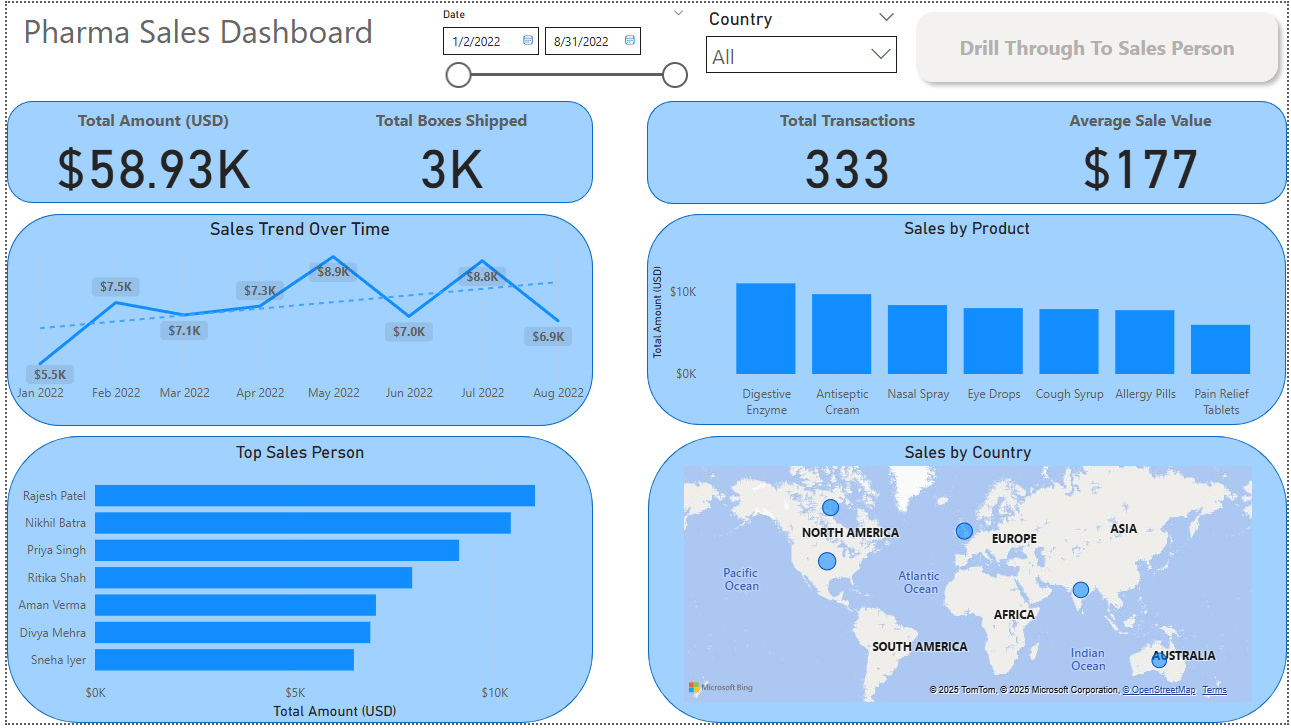

The page's visual inventory and layout, read from the dashboard file:
{"tool":"powerbi","page":{"name":"Dashboard","canvas":[1280,720],"ordinal":0},"visuals":[{"type":"shape","box":[640.1,97.5,640.1,103.2],"z":0,"group":"g1"},{"type":"group","id":"g1","title":"Background","box":[0,97.5,1280.2,622.5],"z":500},{"type":"textbox","box":[10.8,0,412.2,72.3],"z":1000},{"type":"shape","box":[0,97.5,586.2,102.3],"z":1000,"group":"g1"},{"type":"slicer","fields":{"Values":["sales_export_20251021_234047.sale_date"]},"box":[422.8,0,266.6,88.9],"z":2000},{"type":"shape","box":[0,210.9,586.2,211.9],"z":2000,"group":"g1"},{"type":"actionButton","box":[900.4,0,379.8,88],"z":3000},{"type":"shape","box":[0,432.7,586.2,287.3],"z":3000,"group":"g1"},{"type":"slicer","fields":{"Values":["sales_export_20251021_234047.country"]},"box":[689.5,0,211,88.9],"z":4000},{"type":"shape","box":[640.1,210.9,639.2,211],"z":4000,"group":"g1"},{"type":"cardVisual","fields":{"Data":["Sum(kpi_summary_20251021_234047.total_revenue)"]},"box":[0,88.9,292.7,113.1],"z":5000},{"type":"shape","box":[641,432.7,639.2,287.3],"z":5000,"group":"g1"},{"type":"cardVisual","fields":{"Data":["Sum(sales_export_20251021_234047.boxes_shipped)"]},"box":[303.4,88.9,282.8,107.7],"z":6000},{"type":"cardVisual","fields":{"Data":["deal_size_20251021_234047.Total Transactions"]},"box":[693.8,88.7,293.1,112.9],"z":7000},{"type":"cardVisual","fields":{"Data":["Avg(sales_export_20251021_234047.amount_usd)"]},"box":[986.9,88.7,293.1,112.9],"z":8000},{"type":"lineChart","title":"Sales Trend Over Time","fields":{"Y":["Sum(sales_export_20251021_234047.amount_usd)"],"Category":["sales_export_20251021_234047.sale_date.Variation.Date Hierarchy.Year","sales_export_20251021_234047.sale_date.Variation.Date Hierarchy.Quarter","sales_export_20251021_234047.sale_date.Variation.Date Hierarchy.Month"]},"box":[4.5,214.6,577.3,193.9],"z":9000},{"type":"barChart","title":"Top Sales Person","fields":{"Y":["Sum(sales_export_20251021_234047.amount_usd)"],"Category":["sales_export_20251021_234047.sales_person"]},"box":[0,439,586.2,281.9],"z":10000},{"type":"columnChart","title":"Sales by Product","fields":{"Y":["Sum(sales_export_20251021_234047.amount_usd)"],"Category":["sales_export_20251021_234047.product"]},"box":[640.1,214.6,640.1,207.4],"z":11000},{"type":"map","title":"Sales by Country","fields":{"Category":["sales_export_20251021_234047.country"],"Size":["Sum(sales_export_20251021_234047.amount_usd)"]},"box":[671.5,408.5,578.2,289.1],"z":12000}]}

Visuals, with their boxes in screenshot pixels (x1, y1, x2, y2), scaled from the page's 1280x720 canvas onto the 1291x728 screenshot:
shape: detection(646, 99, 1290, 203)
"Background" group: detection(0, 99, 1290, 727)
textbox: detection(11, 0, 427, 73)
shape: detection(0, 99, 591, 202)
slicer - sales_export_20251021_234047.sale_date: detection(426, 0, 695, 90)
shape: detection(0, 213, 591, 427)
actionButton: detection(908, 0, 1290, 89)
shape: detection(0, 438, 591, 727)
slicer - sales_export_20251021_234047.country: detection(695, 0, 908, 90)
shape: detection(646, 213, 1290, 427)
cardVisual - Sum(kpi_summary_20251021_234047.total_revenue): detection(0, 90, 295, 204)
shape: detection(647, 438, 1290, 727)
cardVisual - Sum(sales_export_20251021_234047.boxes_shipped): detection(306, 90, 591, 199)
cardVisual - deal_size_20251021_234047.Total Transactions: detection(700, 90, 995, 204)
cardVisual - Avg(sales_export_20251021_234047.amount_usd): detection(995, 90, 1290, 204)
"Sales Trend Over Time" lineChart: detection(5, 217, 587, 413)
"Top Sales Person" barChart: detection(0, 444, 591, 727)
"Sales by Product" columnChart: detection(646, 217, 1290, 427)
"Sales by Country" map: detection(677, 413, 1260, 705)
